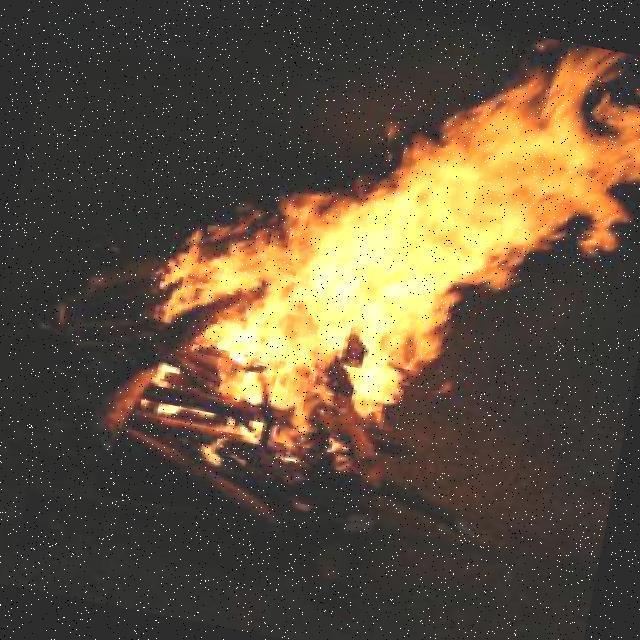fire: (114, 0, 640, 529)
